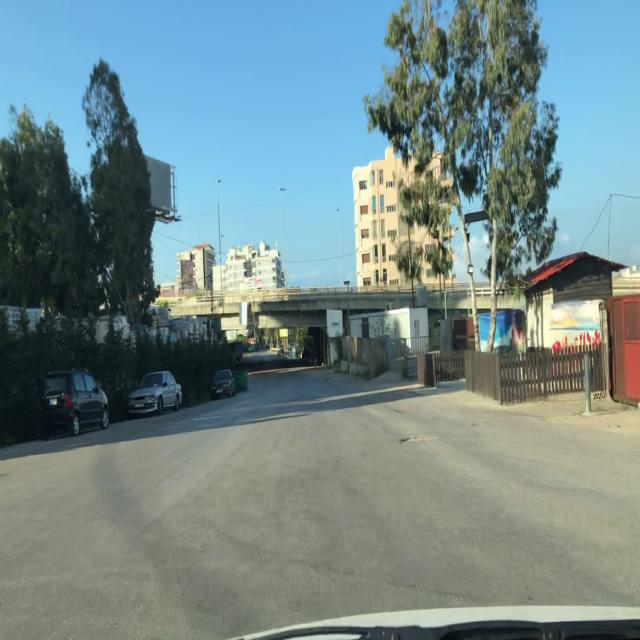Pothole: (400, 431, 441, 446)
